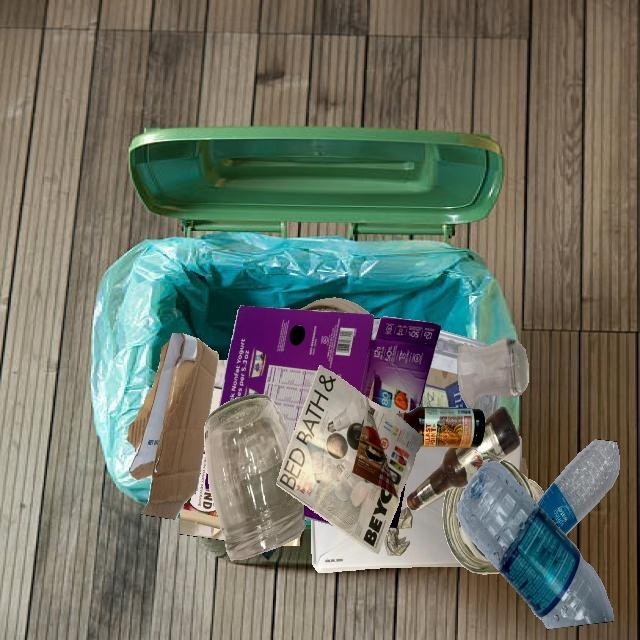biowaste: (261, 547, 278, 560)
cardboard: (210, 370, 353, 509), (219, 306, 374, 417), (127, 333, 219, 520), (209, 415, 305, 546), (353, 316, 441, 414), (180, 443, 225, 540), (520, 458, 527, 478)
glass: (204, 394, 305, 560), (407, 407, 520, 510), (442, 487, 500, 574), (457, 338, 528, 408), (394, 406, 485, 448), (499, 460, 544, 503), (300, 297, 371, 314)
paper: (276, 365, 423, 554), (311, 492, 463, 573), (443, 450, 503, 525), (400, 446, 451, 511), (384, 507, 413, 556), (304, 517, 309, 520)
plastic: (457, 461, 614, 629), (536, 439, 620, 535), (420, 355, 500, 420), (435, 330, 489, 366)
